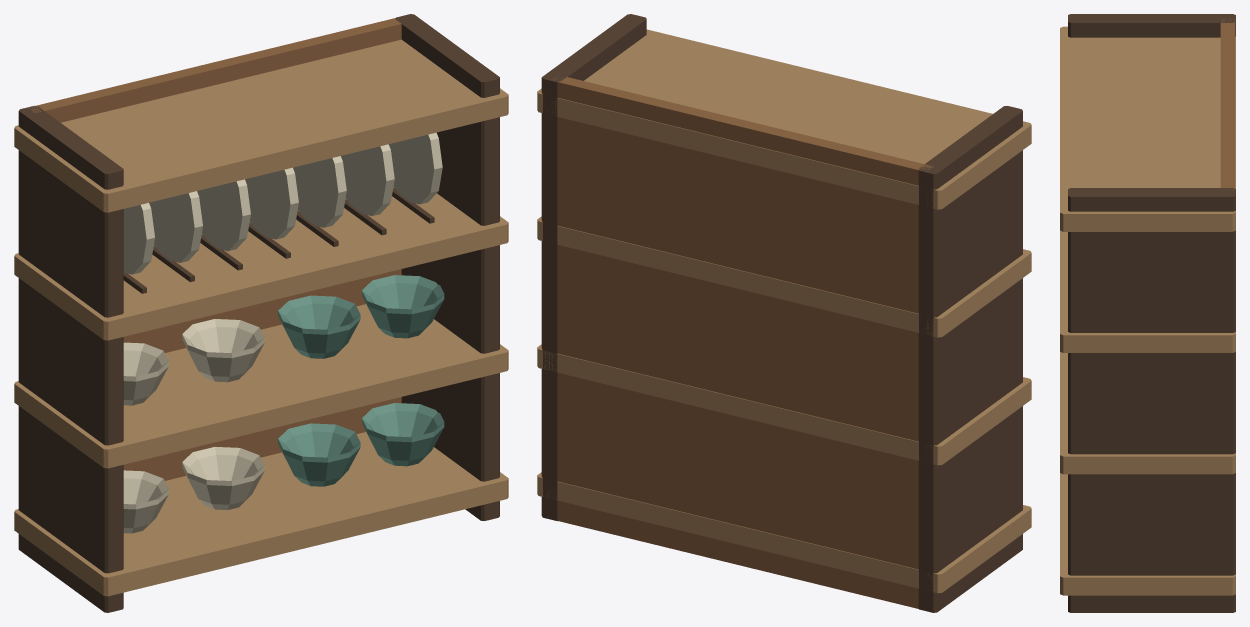
The model's file is rack_dishes.glb.
The picture shows the model from 3 angles, left to right: view 1: azimuth 30°, elevation 25°; view 2: azimuth 150°, elevation 25°; view 3: azimuth 270°, elevation 25°; orthographic projection. The views are drawn at different scales.
Parts seen in each view (by area): view 1: geometry; view 2: geometry; view 3: geometry.
Boxes of the visible parts, <box> form: geometry: <box>14,14,508,612</box>; geometry: <box>537,14,1031,612</box>; geometry: <box>1060,14,1235,612</box>.
Size of the model in its own units: 1.69 by 1.75 by 0.67.
